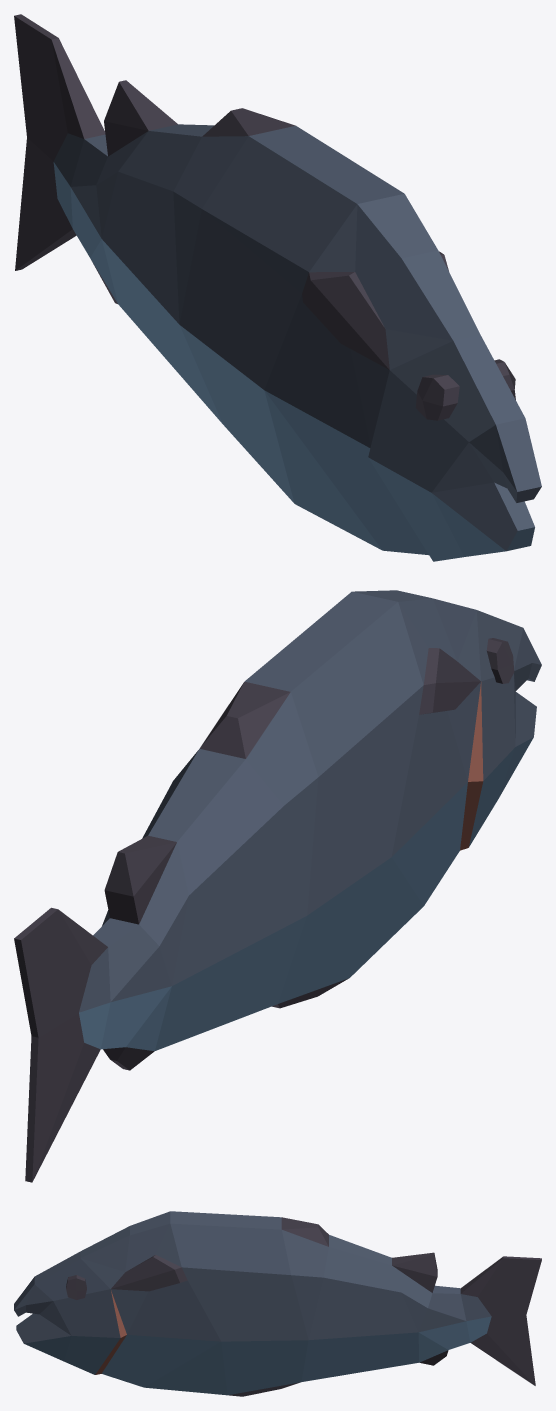
The model's file is SM_Prop_Fish_02.fbx.
3 views of the same model, one above another, from view 1: azimuth 30°, elevation 25°; view 2: azimuth 150°, elevation 25°; view 3: azimuth 270°, elevation 25° (orthographic). The views are drawn at different scales.
Visible parts, largest first — view 1: SM_Prop_Fish_02; view 2: SM_Prop_Fish_02; view 3: SM_Prop_Fish_02.
Boxes of the visible parts, box(x1,y1,x2,y2) form: SM_Prop_Fish_02: box(14, 14, 541, 561); SM_Prop_Fish_02: box(14, 590, 541, 1182); SM_Prop_Fish_02: box(14, 1211, 541, 1396).
Size of the model in its own units: 12.76 by 32.28 by 85.81.
